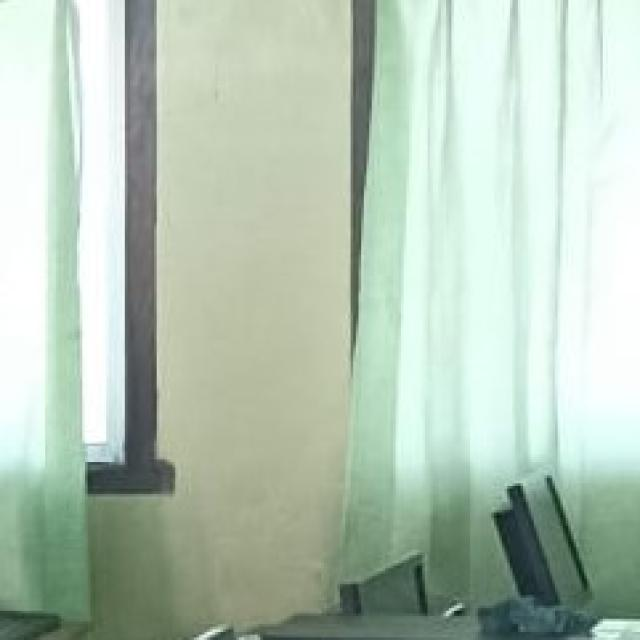offscreen: (481, 476, 596, 634)
